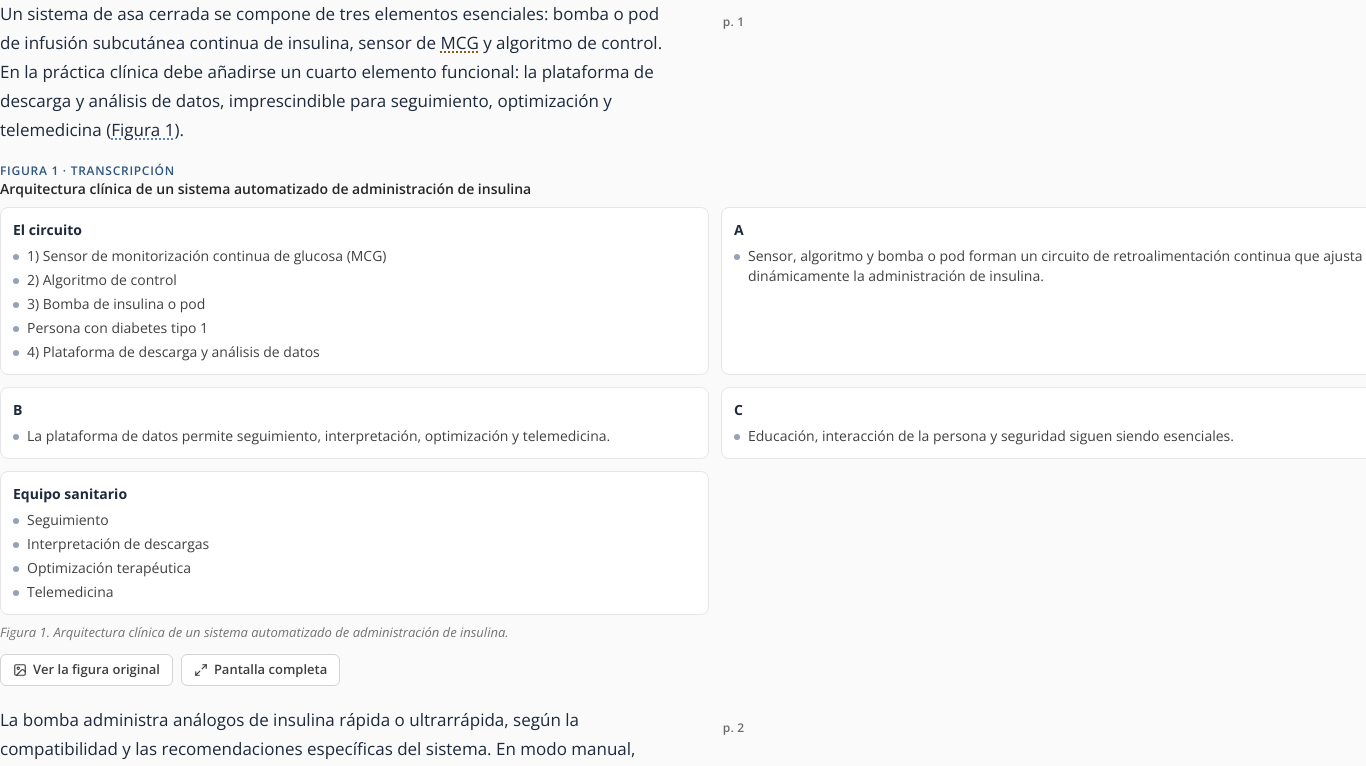
Scenario: Siglas pulsables › el botón abre el desarrollo literal con su página; Esc cierra y devuelve el foco
The image size is (1366, 766).
Step 1. Click the button "MCG" → [460, 43], box [436,26,483,61]
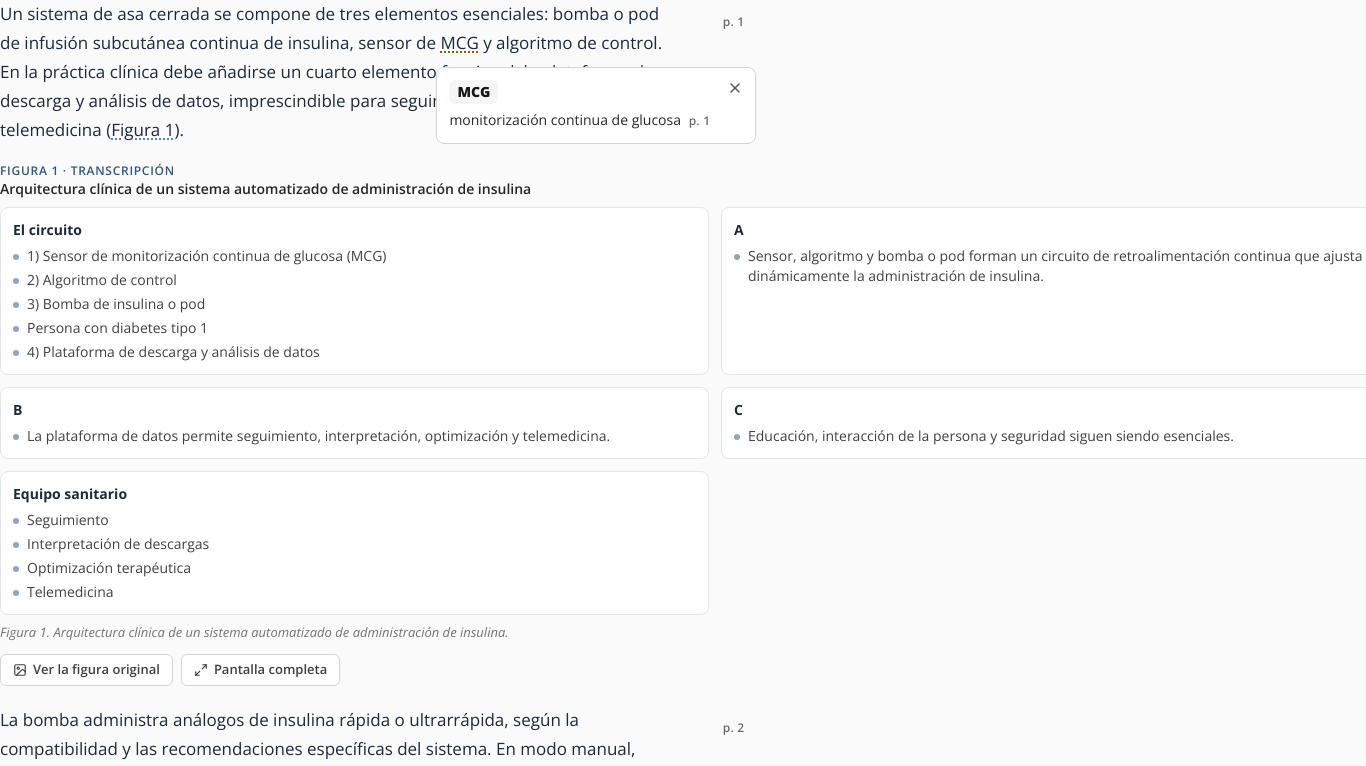
Expected: the dialog named "Sigla MCG" shows "monitorización continua de glucosa", [449,110,681,129]
Expected: the dialog named "Sigla MCG" shows "p. 1", [436,67,756,144]
Step 2. Press Escape
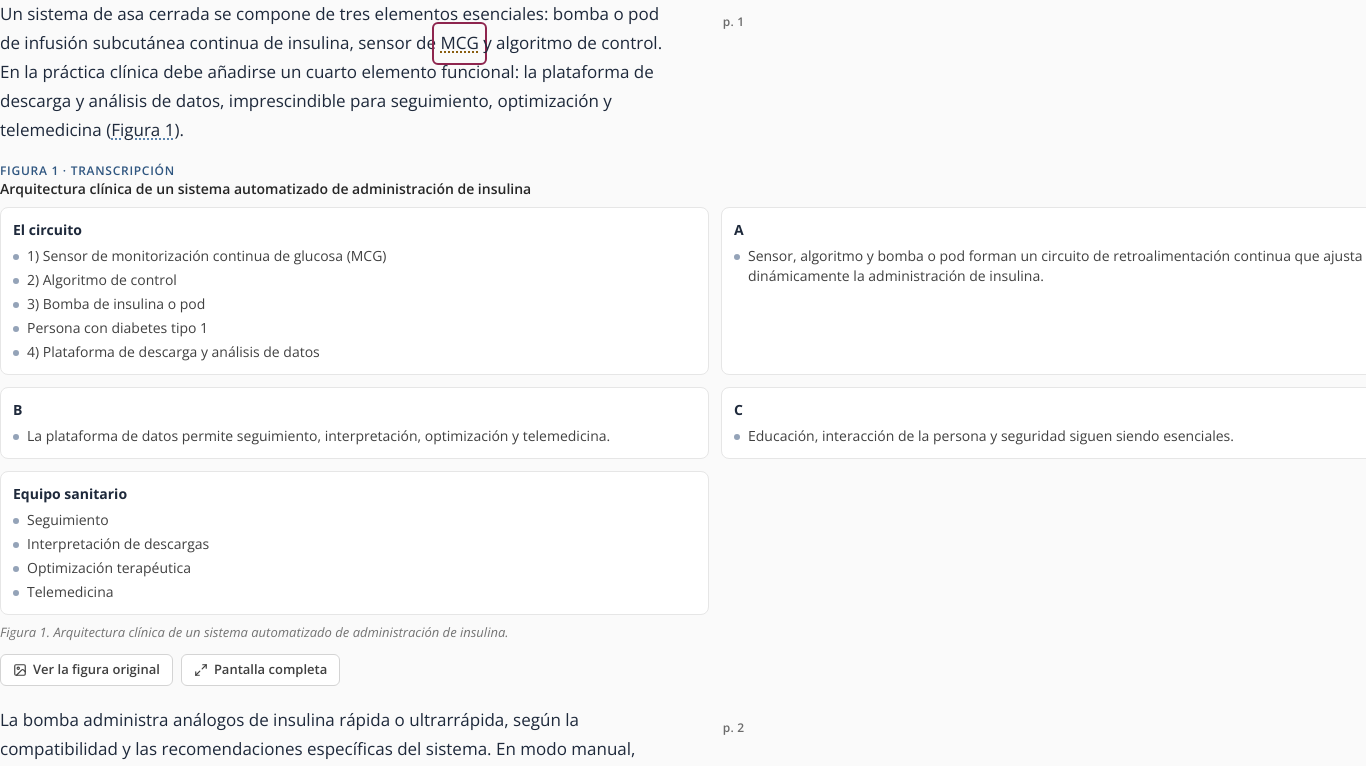
Expected: the dialog is gone
